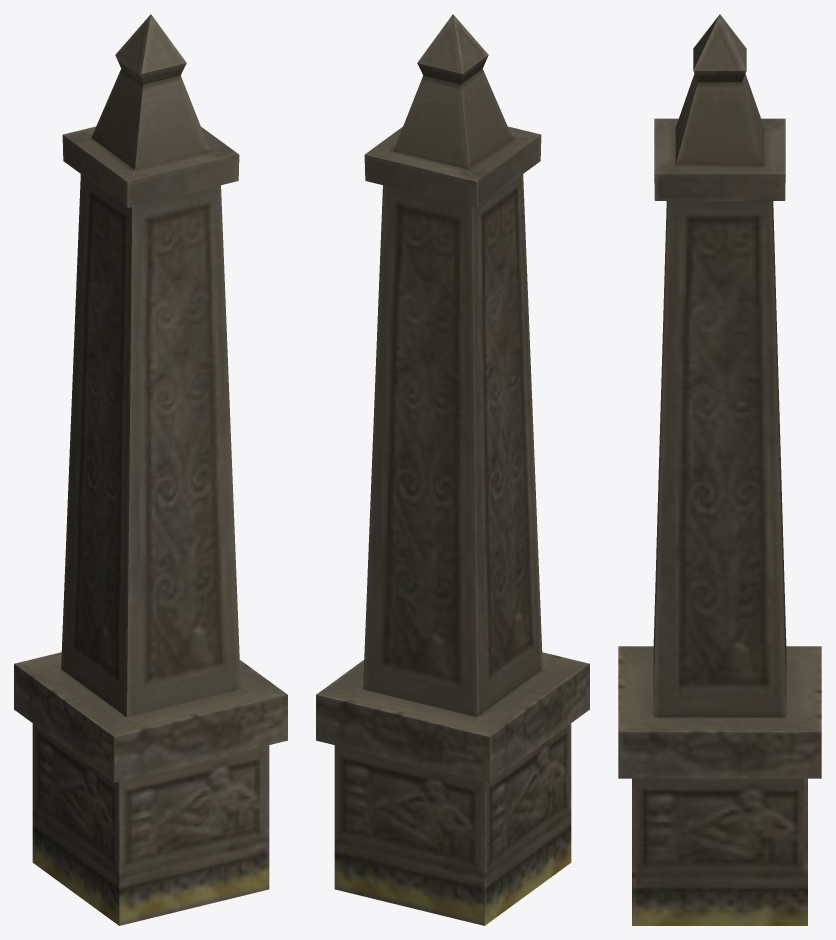
Rendered from Battle05_Column_05.FBX.
The picture shows the model from 3 angles, left to right: view 1: azimuth 30°, elevation 25°; view 2: azimuth 150°, elevation 25°; view 3: azimuth 270°, elevation 25°; orthographic projection.
Visible parts, largest first — view 1: Battle05_Column_05; view 2: Battle05_Column_05; view 3: Battle05_Column_05.
Boxes of the visible parts, x1,y1,x2,y2 form: Battle05_Column_05: (14,14,287,925); Battle05_Column_05: (316,14,589,925); Battle05_Column_05: (618,14,821,925).
Bounding box in the file's own units: 4.58 × 21.72 × 4.58.
